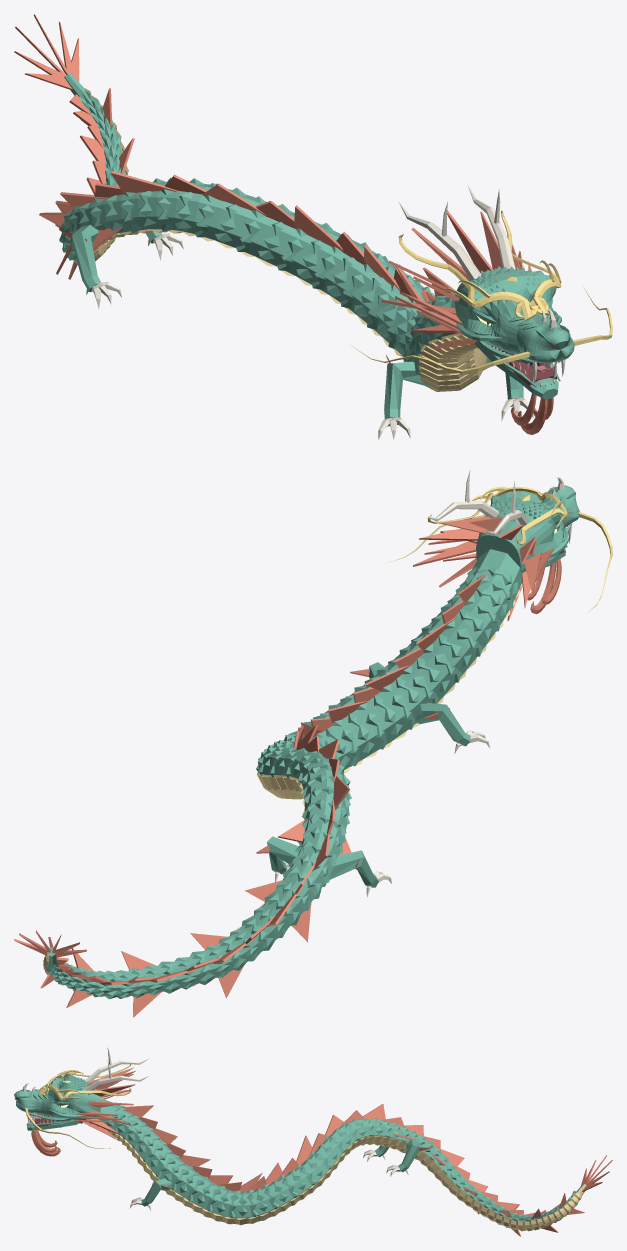
Rendered from Dragon_Long_v10.glb.
3 views of the same model, one above another, from view 1: azimuth 30°, elevation 25°; view 2: azimuth 150°, elevation 25°; view 3: azimuth 270°, elevation 25° (orthographic). The views are drawn at different scales.
Parts seen in each view (by area): view 1: Body, Fins, Horns, Belly, Whiskers; view 2: Body, Fins, Horns, Whiskers, Belly; view 3: Body, Fins, Belly, Horns, Whiskers.
Part boxes in pixels (box(x1,y1,x2,y2)): Body: box(59, 72, 574, 419); Fins: box(14, 14, 553, 434); Horns: box(86, 185, 565, 440); Belly: box(84, 88, 535, 395); Whiskers: box(349, 210, 612, 373); Body: box(46, 485, 579, 999); Fins: box(14, 516, 561, 1017); Horns: box(275, 470, 571, 897); Whiskers: box(387, 486, 612, 611); Belly: box(43, 558, 561, 997); Body: box(14, 1075, 584, 1230); Fins: box(31, 1067, 612, 1236); Belly: box(34, 1122, 586, 1231); Horns: box(22, 1047, 408, 1210); Whiskers: box(25, 1064, 131, 1148).
Bounding box in the file's own units: 14.48 × 19.17 × 58.02.
